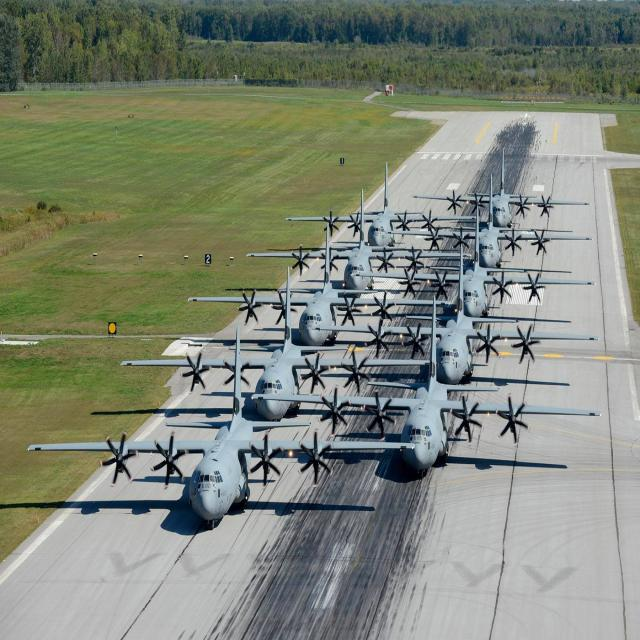MIL_Plane: (120, 263, 430, 418), (309, 242, 601, 385), (0, 0, 250, 160), (187, 222, 451, 346), (351, 205, 596, 317), (213, 188, 441, 298), (281, 160, 476, 252), (410, 144, 592, 230), (352, 188, 562, 260), (186, 0, 256, 178)
